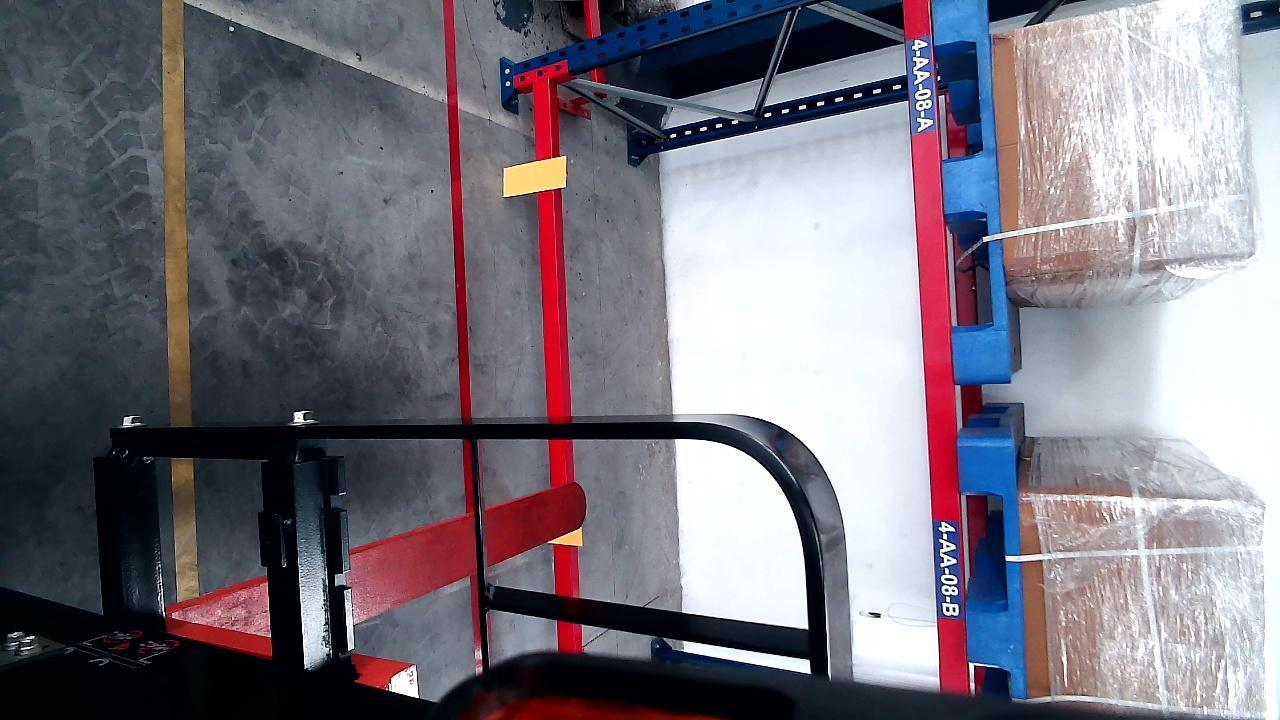red_line: (444, 0, 492, 675)
yellow_line: (163, 0, 203, 605)
